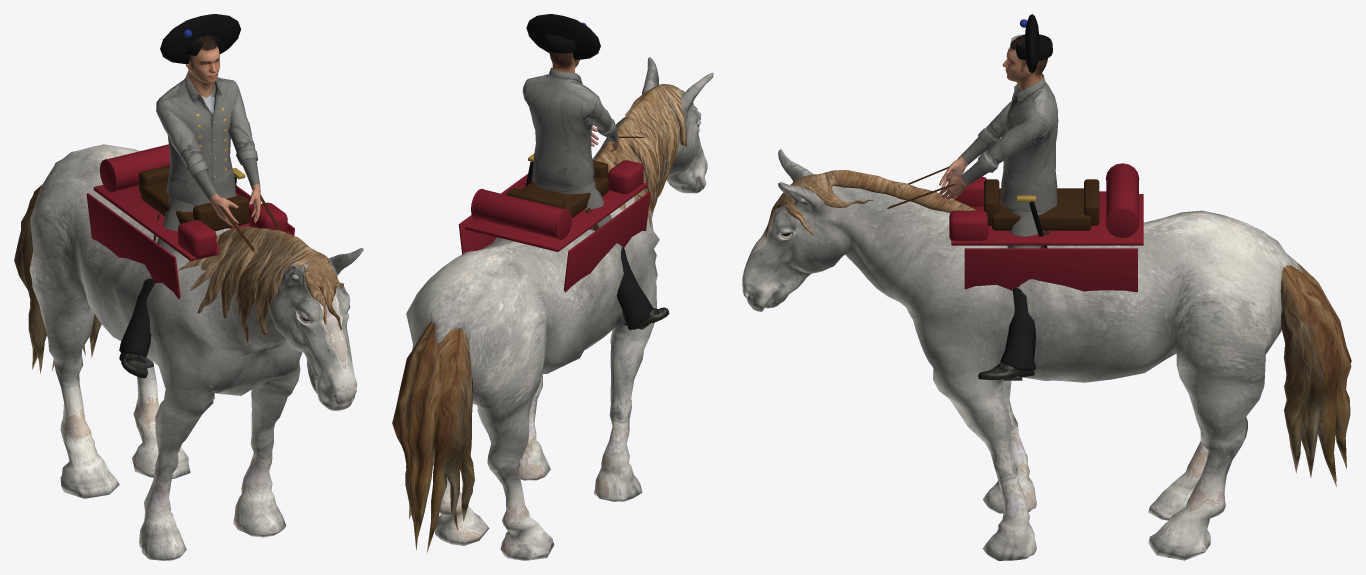
The model's file is emperor.glb.
3 renders of one model, left to right at view 1: azimuth 30°, elevation 25°; view 2: azimuth 150°, elevation 25°; view 3: azimuth 270°, elevation 25°, orthographic. The views are drawn at different scales.
Visible parts, largest first — view 1: mounted_grey; view 2: mounted_grey; view 3: mounted_grey.
Boxes of the visible parts, x1,y1,x2,y2 form: mounted_grey: (14, 14, 363, 560); mounted_grey: (392, 14, 713, 560); mounted_grey: (742, 14, 1351, 560).
Bounding box in the file's own units: 1.09 × 2.93 × 3.17.
Materials: 15 (5 with a texture image).
